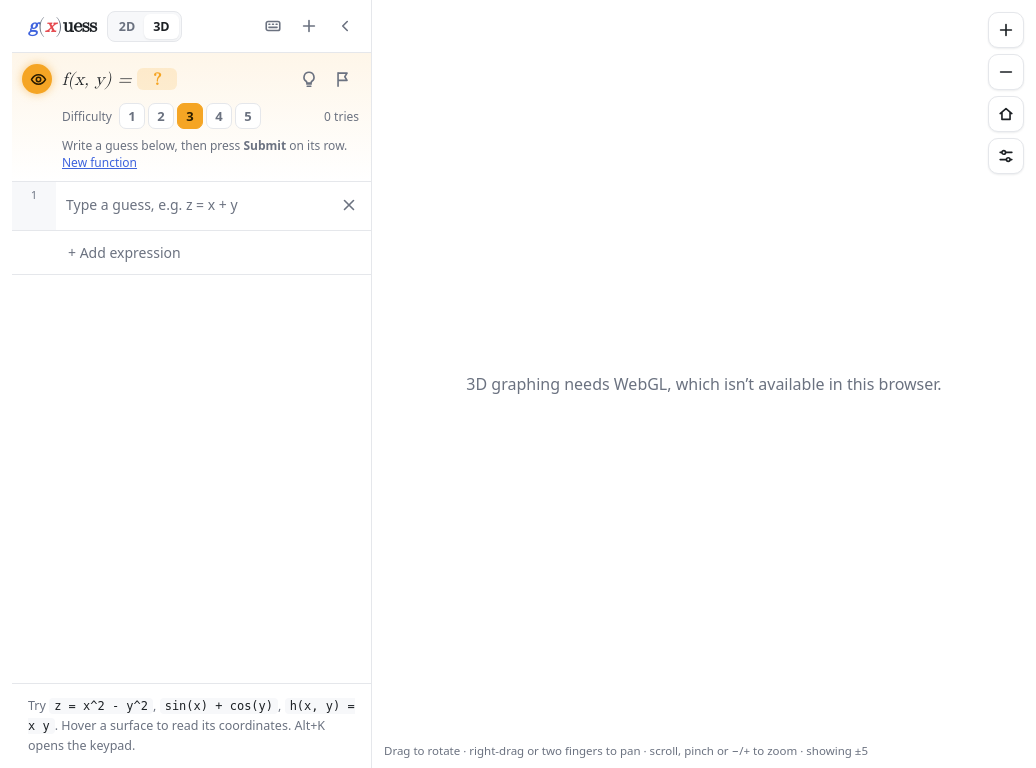
it: 3D mode › generates a new 3D surface when the difficulty changes
Click the radio button named "Difficulty 5" at (248, 116), box [235,103,261,129]
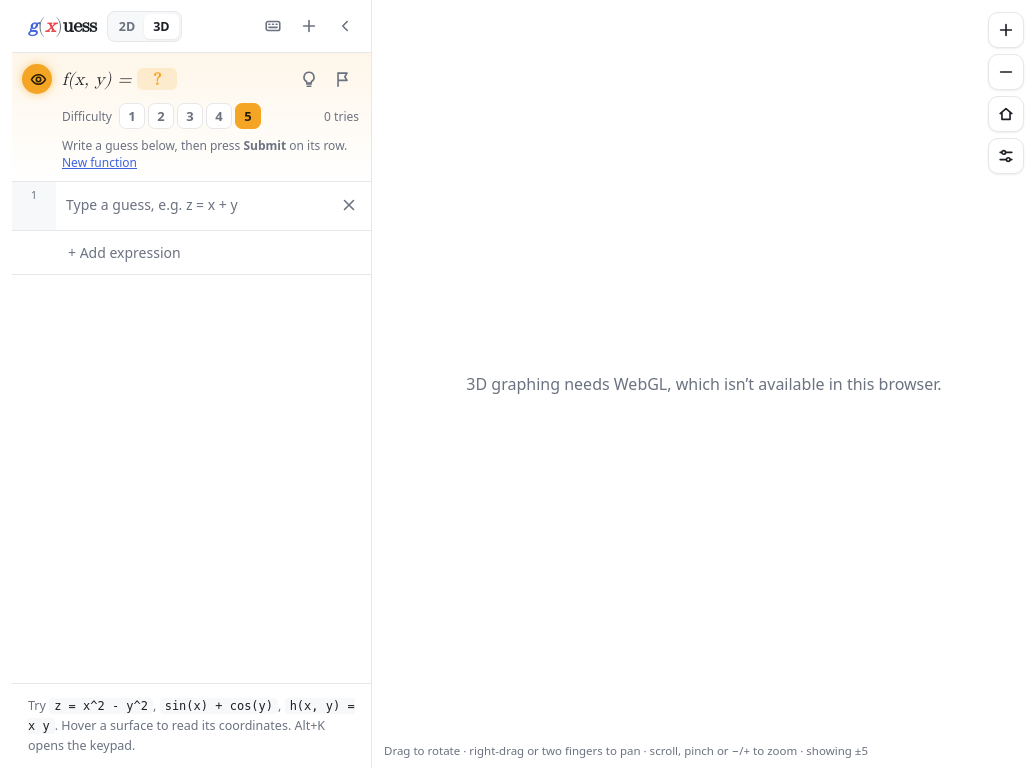
Click the button named "Hint" at (309, 79), box [293,63,325,95]
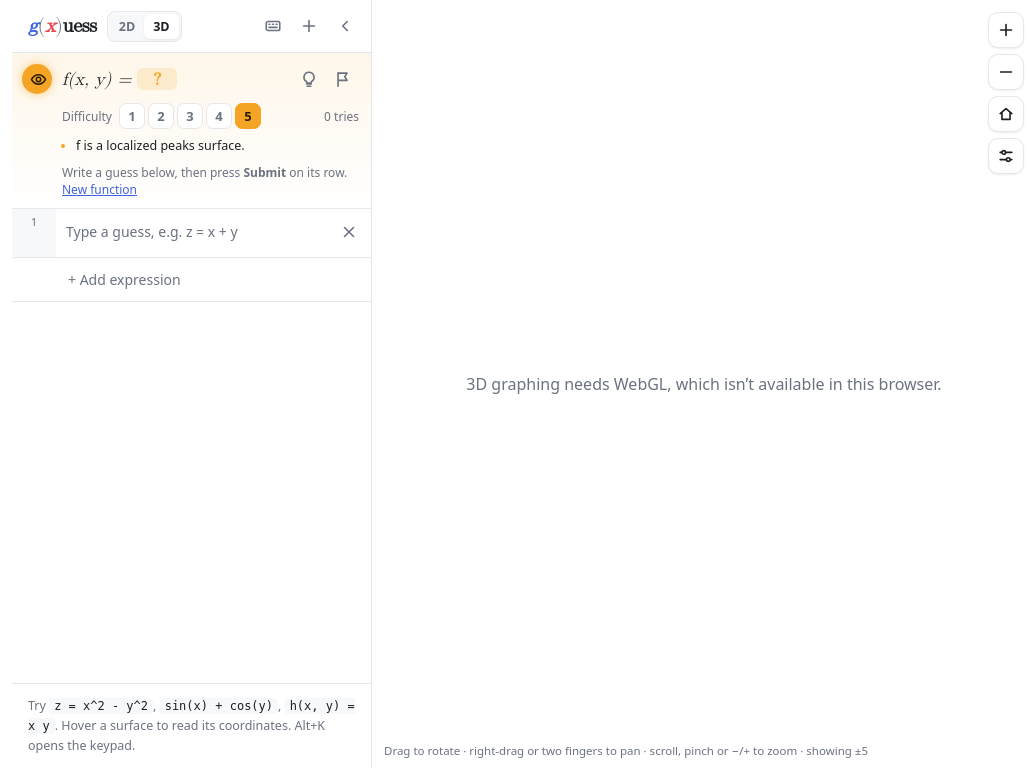
Now the list named "Hints" shows "surface.", box [76,137,245,154]
